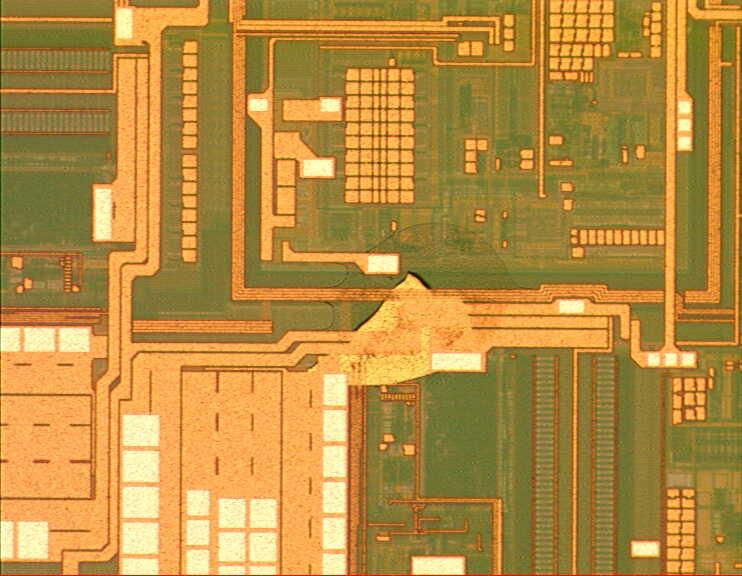BLOCK ETCH: (282, 216, 538, 392)
